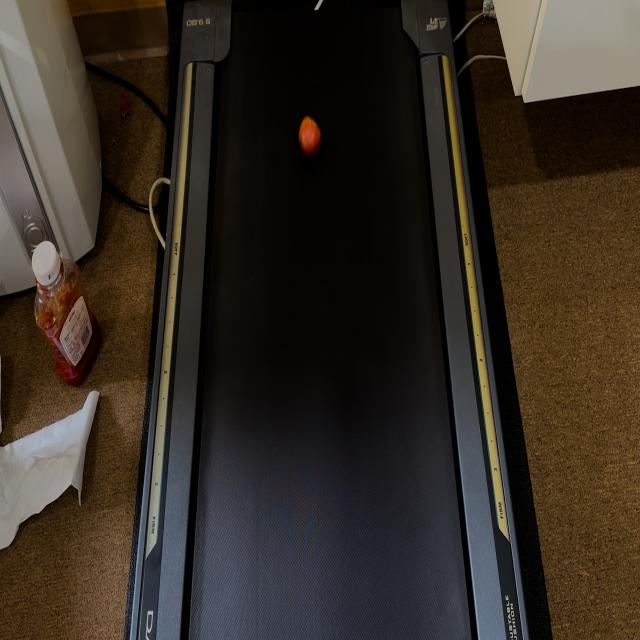Trash: (301, 119, 321, 159)
